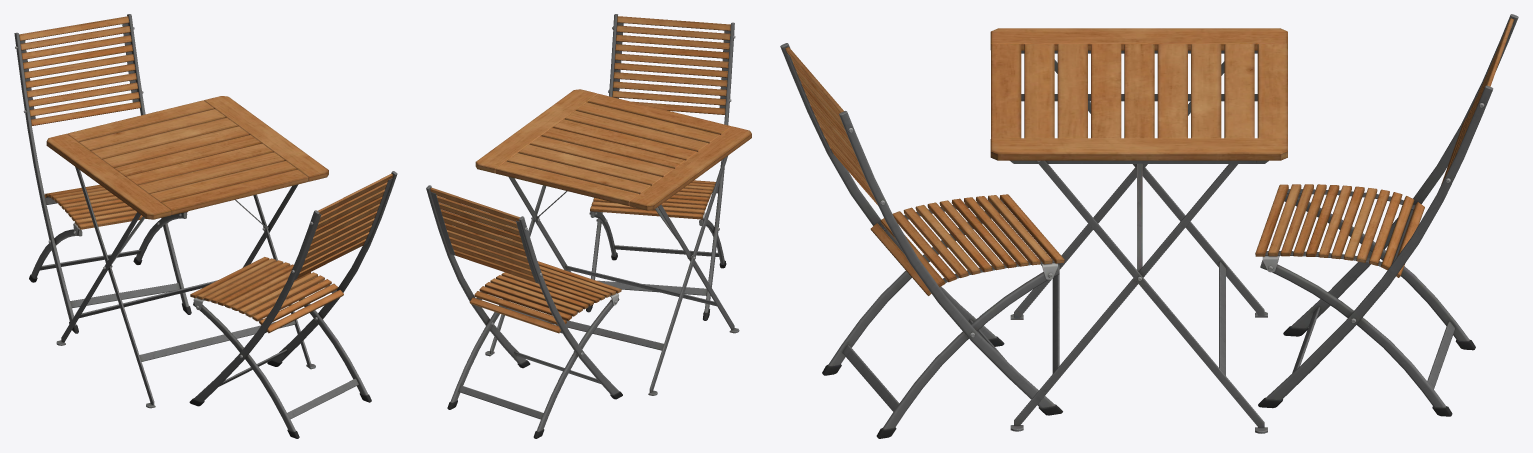
File: outdoor_table_chair_set_01.glb
The picture shows the model from 3 angles, left to right: view 1: azimuth 30°, elevation 25°; view 2: azimuth 150°, elevation 25°; view 3: azimuth 270°, elevation 25°; orthographic projection. The views are drawn at different scales.
Visible parts, largest first — view 1: outdoor_table_chair_set_01, outdoor_table_chair_set_01_table; view 2: outdoor_table_chair_set_01, outdoor_table_chair_set_01_table; view 3: outdoor_table_chair_set_01_table, outdoor_table_chair_set_01.
Boxes of the visible parts, bbox=[...] form: outdoor_table_chair_set_01: bbox=[14, 14, 397, 438]; outdoor_table_chair_set_01_table: bbox=[46, 96, 328, 408]; outdoor_table_chair_set_01: bbox=[426, 14, 735, 438]; outdoor_table_chair_set_01_table: bbox=[475, 89, 751, 395]; outdoor_table_chair_set_01_table: bbox=[990, 28, 1287, 433]; outdoor_table_chair_set_01: bbox=[780, 14, 1518, 438].
Size of the model in its own units: 0.7417 by 0.8586 by 1.72.
Materials: 2 (2 with a texture image).
